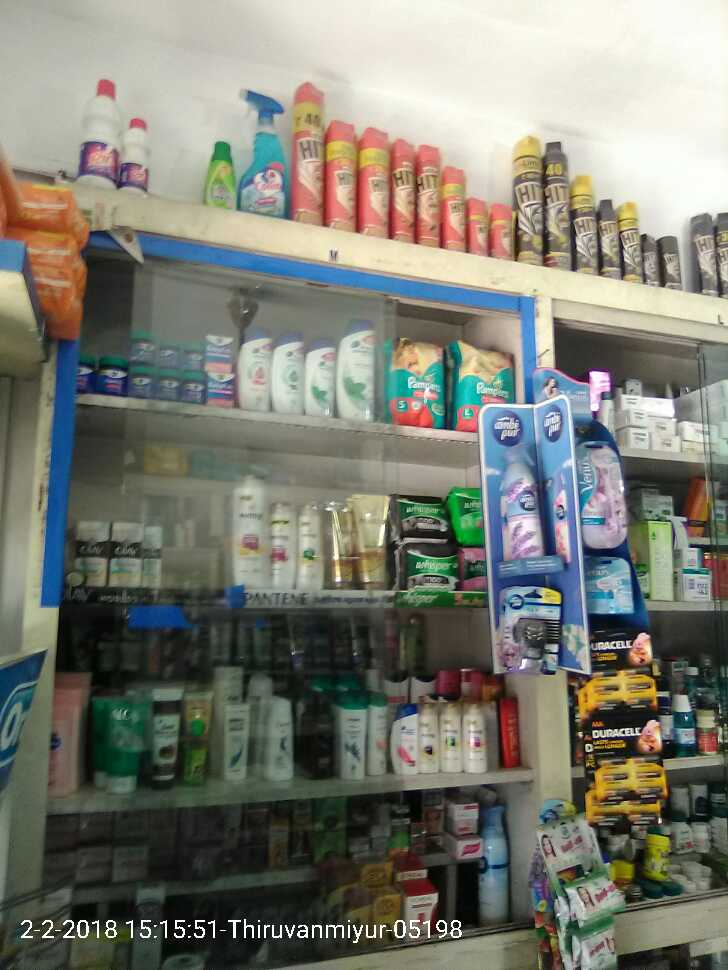vicks: (73, 306, 237, 409)
